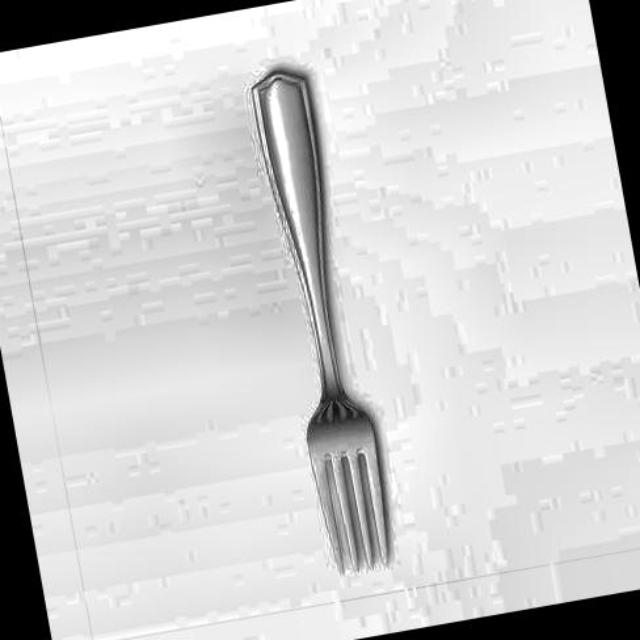Fork: (251, 73, 388, 573)
